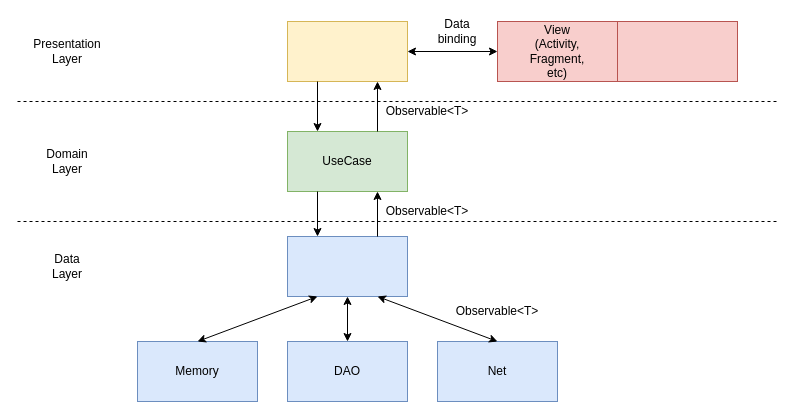
This 796x419 diagram has some shape labels left out. Each missing label, with the box of its shape:
Layout XML: (616, 20, 738, 82)
Repository: (286, 236, 408, 296)
ViewModel: (286, 20, 408, 82)
